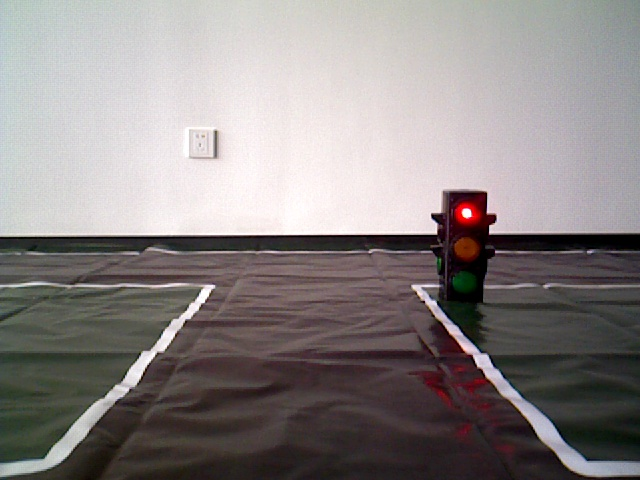red: (445, 191, 482, 300)
